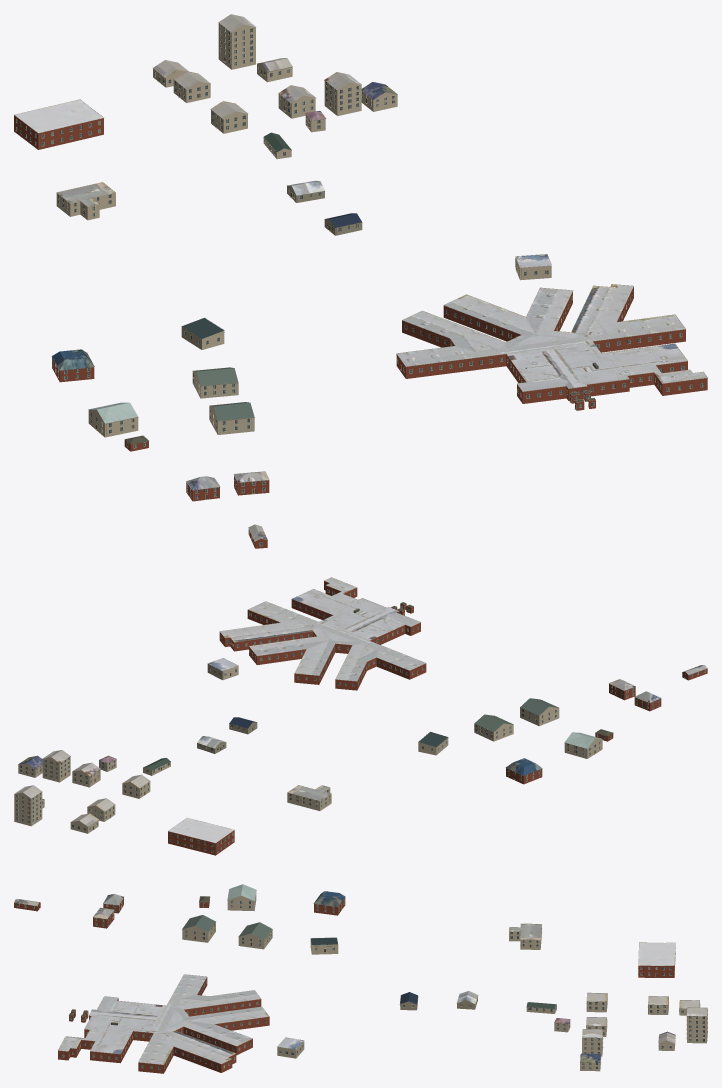
3 renders of one model, top to bottom at view 1: azimuth 30°, elevation 25°; view 2: azimuth 150°, elevation 25°; view 3: azimuth 270°, elevation 25°, orthographic. The views are drawn at different scales.
Parts seen in each view (by area): view 1: -1_7_599107457_1, -1_7_599107458_6, -1_7_599107457_2; view 2: -1_7_599107457_1, -1_7_599107458_6, -1_7_599107457_2; view 3: -1_7_599107457_1, -1_7_599107458_6, -1_7_599107457_2.
Part boxes in pixels (<box>): -1_7_599107457_1: <box>14,14,707,548</box>; -1_7_599107458_6: <box>56,23,551,437</box>; -1_7_599107457_2: <box>125,132,595,444</box>; -1_7_599107457_1: <box>14,577,707,855</box>; -1_7_599107458_6: <box>14,664,602,833</box>; -1_7_599107457_2: <box>144,602,612,770</box>; -1_7_599107457_1: <box>14,884,707,1073</box>; -1_7_599107458_6: <box>182,895,707,1071</box>; -1_7_599107457_2: <box>69,896,556,1016</box>.
Size of the model in its own units: 272 by 37.33 by 420.
13 materials, 1 textured.
